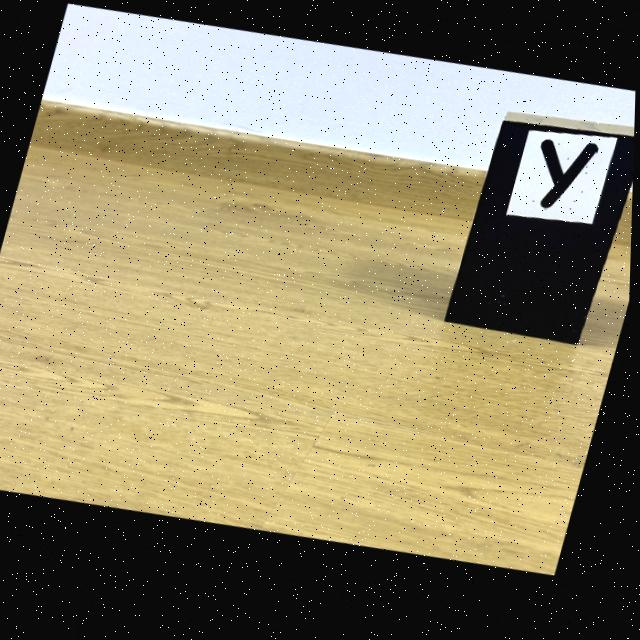Y: (542, 150, 599, 220)
